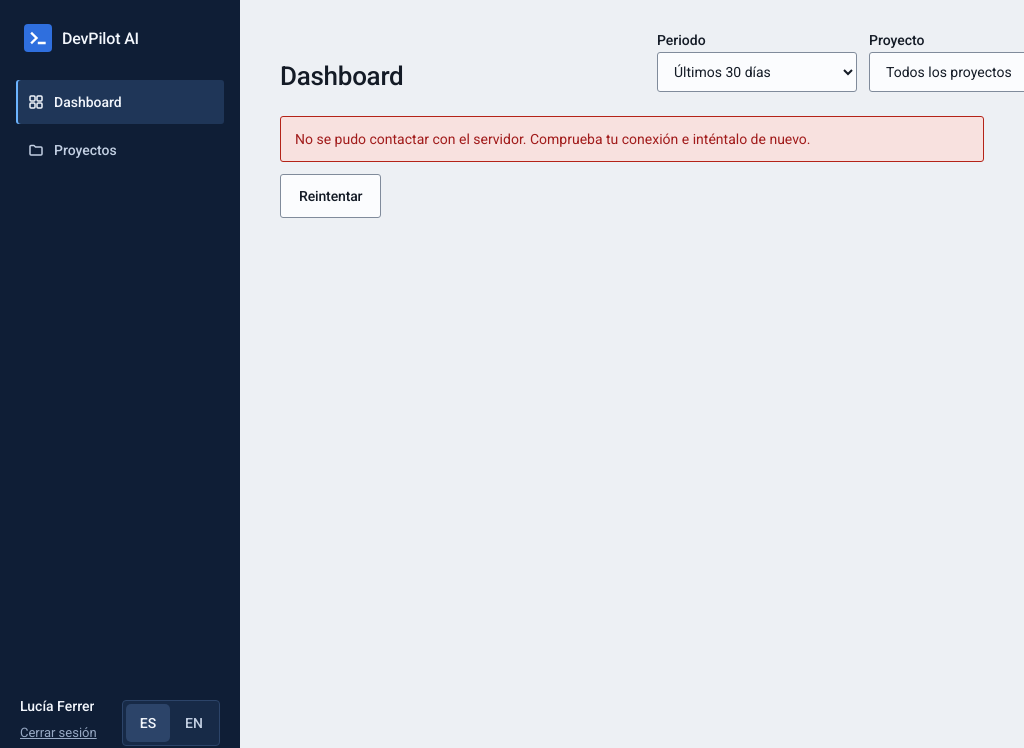
Test: the dashboard › explains a failure and tries again
This screenshot has width=1024, height=748.
Click the button "Reintentar".
click(331, 196)  # box [280,174,381,218]
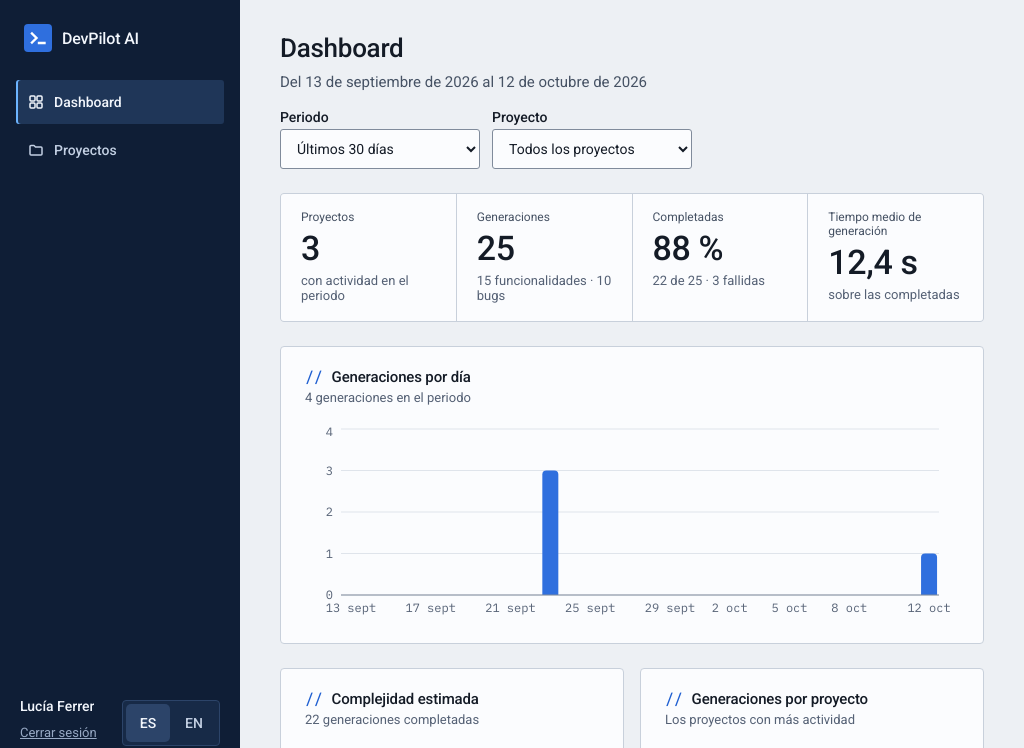
Check: the element named "Indicadores" is shown, box [280,193,984,322]
